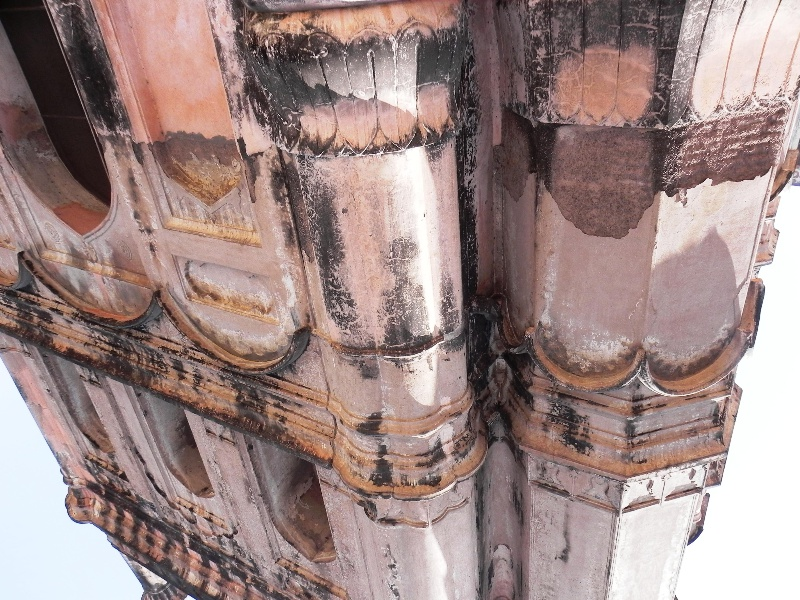Spalling: (498, 97, 782, 243)
